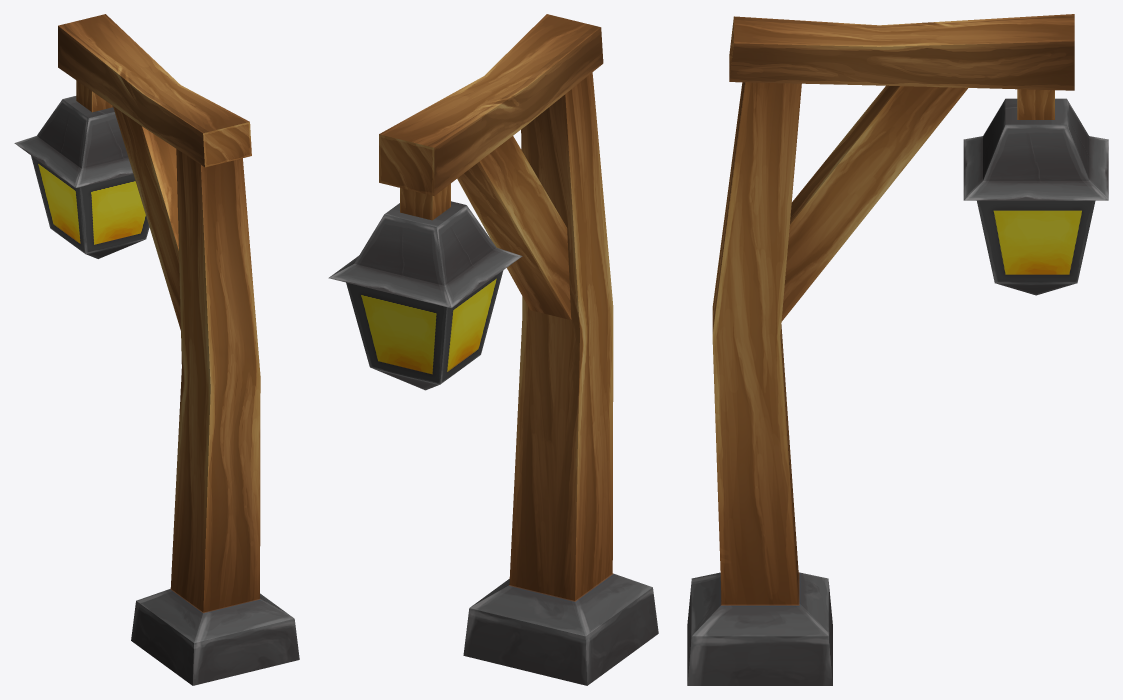
File: Street_light.FBX
3 views of the same model, side by side, from view 1: azimuth 30°, elevation 25°; view 2: azimuth 150°, elevation 25°; view 3: azimuth 270°, elevation 25° (orthographic). The views are drawn at different scales.
Parts seen in each view (by area): view 1: street_light; view 2: street_light; view 3: street_light.
Part boxes in pixels (box(x1,y1,x2,y2)): street_light: box(14, 14, 299, 685); street_light: box(328, 14, 658, 685); street_light: box(687, 14, 1108, 685).
Size of the model in its own units: 0.7723 by 3.68 by 2.24.
